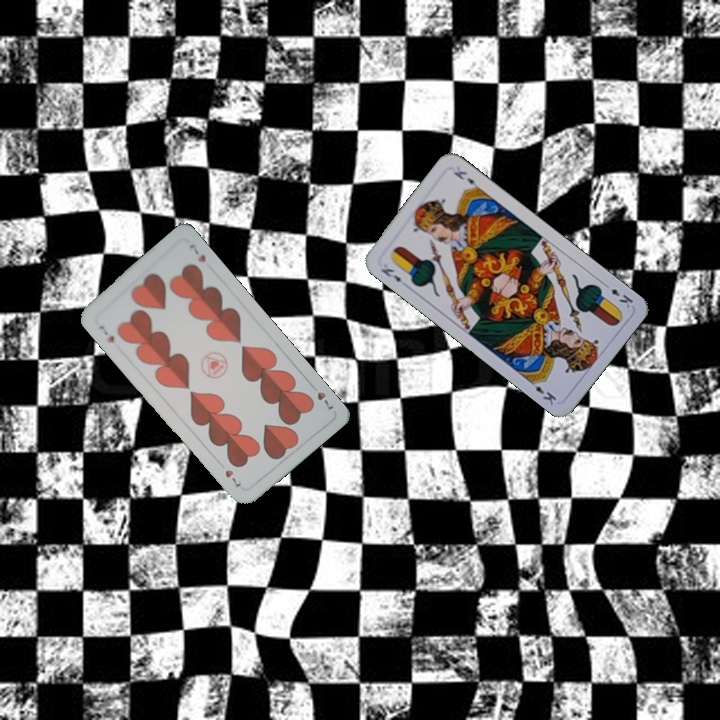EK: (599, 279, 636, 311), (377, 264, 404, 285)
H7: (306, 379, 337, 412), (95, 321, 117, 346)
